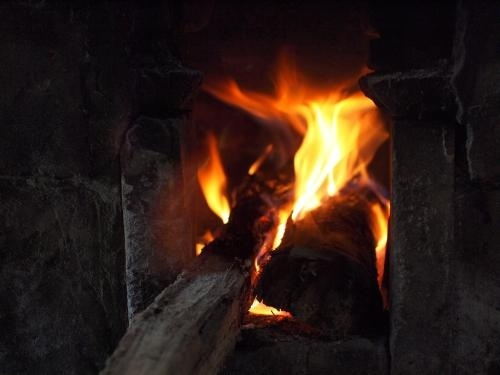fire: (234, 59, 385, 222), (198, 137, 232, 225), (253, 212, 291, 273), (371, 200, 390, 288), (246, 294, 291, 320), (194, 229, 215, 256)
